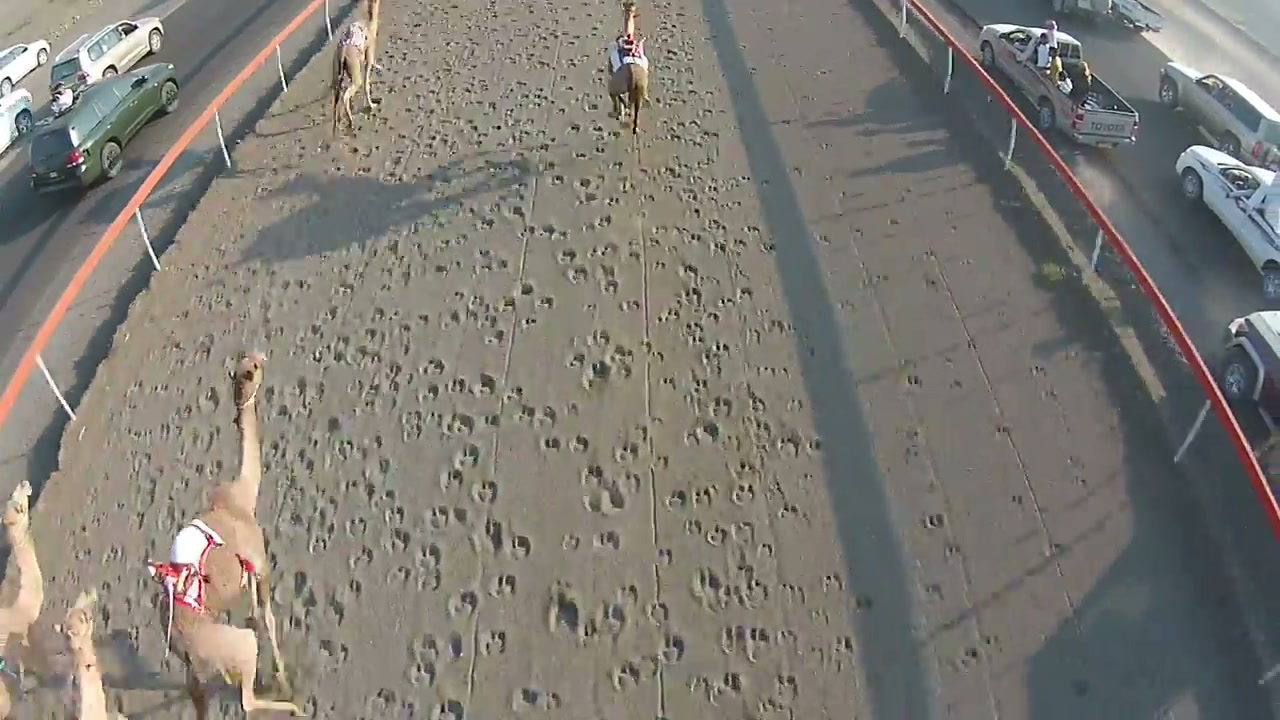animal_foot_print: (95, 2, 526, 719), (548, 86, 835, 713)
